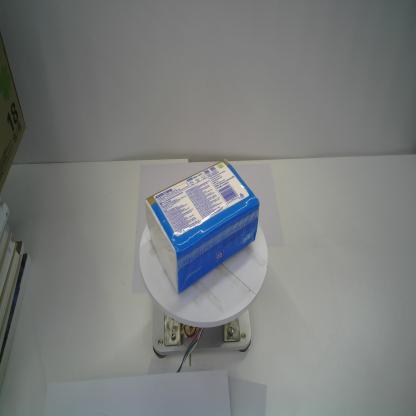Tissue: (144, 159, 260, 295)
